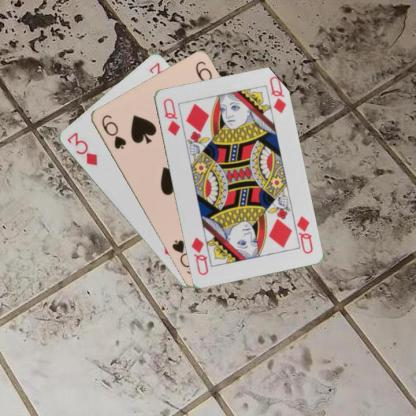3d: (64, 129, 99, 167)
6s: (98, 112, 128, 150)
Qd: (289, 212, 314, 254), (160, 95, 181, 137)
